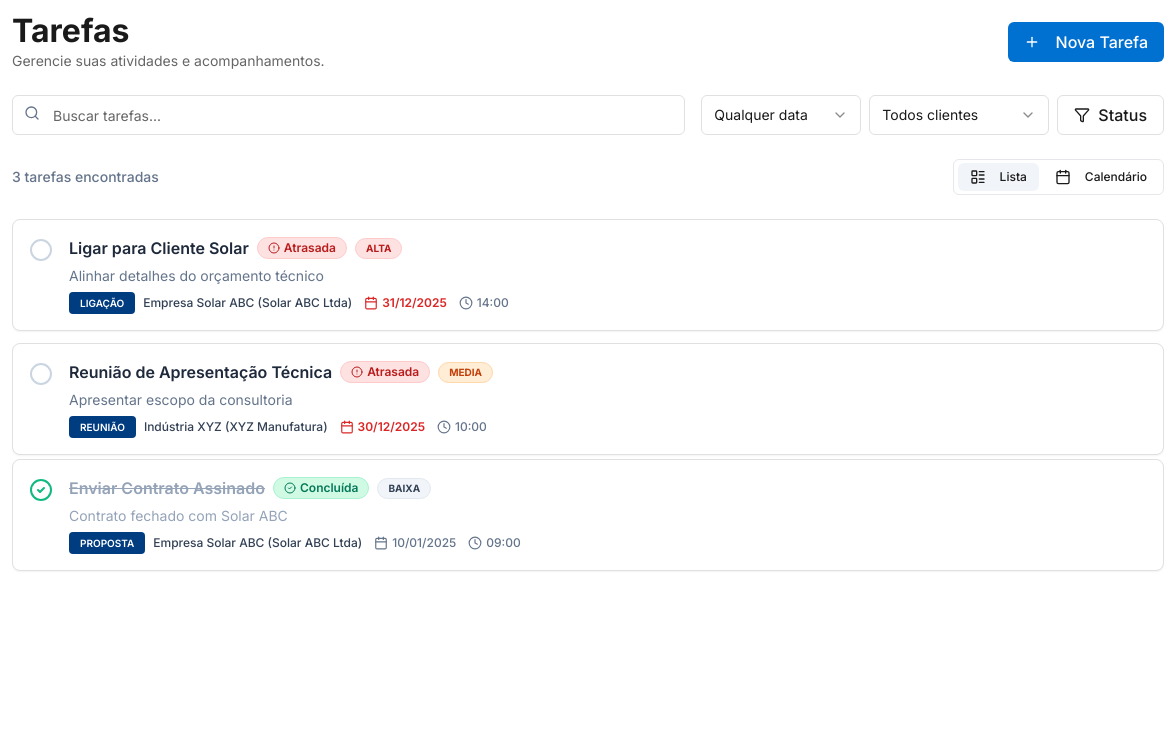
Test case: TasksPage Integration Tests (Fluxo Tarefas) › 2. Deve filtrar tarefas por termo de busca
The width and height of the screenshot is (1176, 732).
Expected: the heading "Ligar para Cliente Solar" is shown, [69,236,249,260]
Type "Reunião" into the field with placeholder "Buscar tarefas...". click: (349, 115)
box: [12,95,685,135]
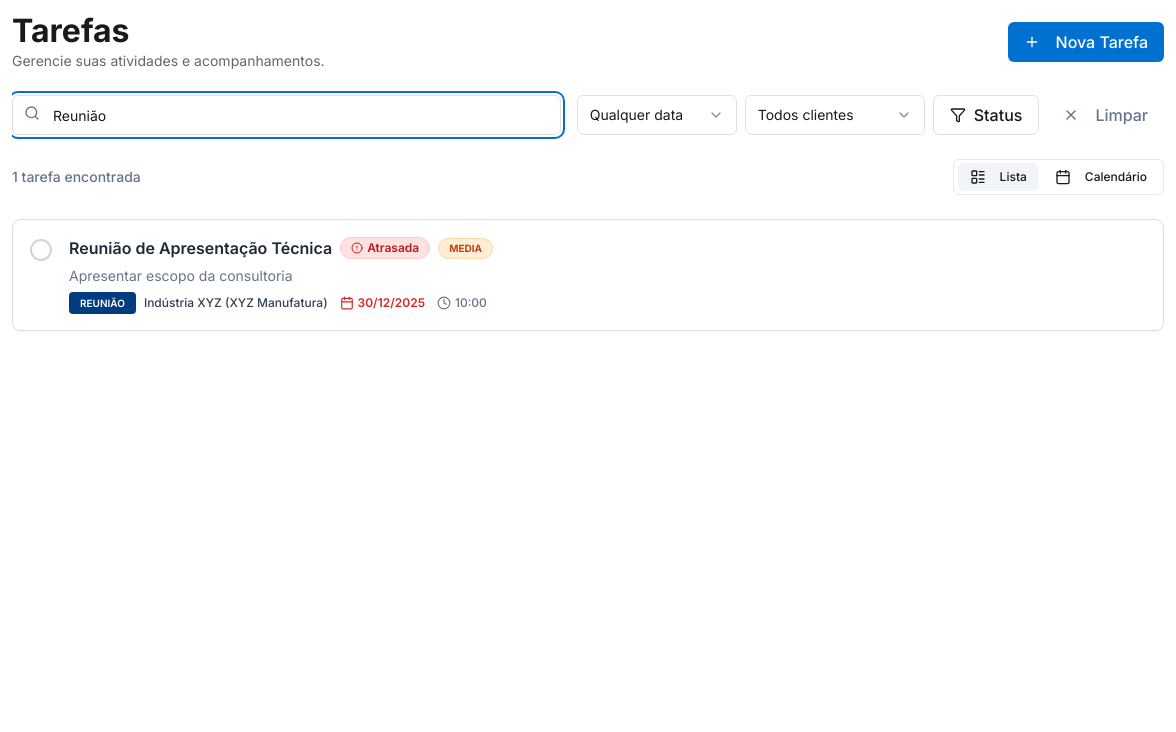
Result: the heading "Ligar para Cliente Solar" is gone
Result: the heading "Enviar Contrato Assinado" is gone
Result: the heading "1 tarefa encontrada" is shown at [12,167,141,187]
Note: Limpar busca
Clear the field with placeholder "Buscar tarefas...". click: (286, 115)
box: [12,95,561,135]
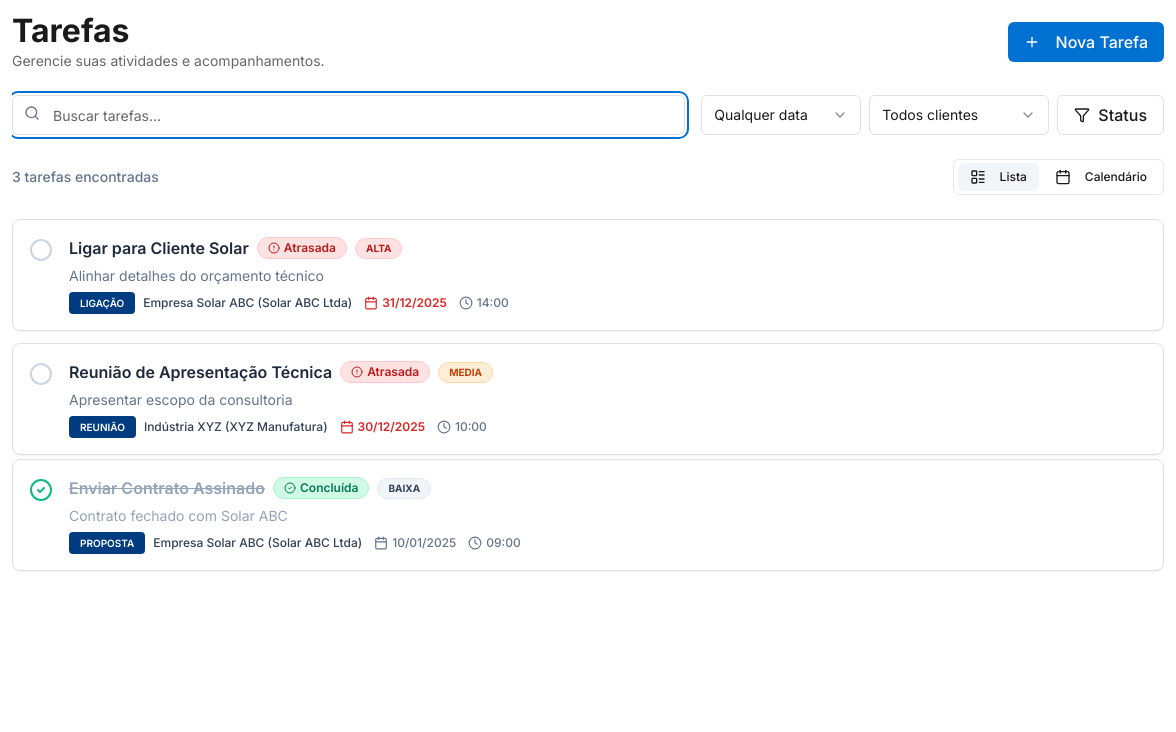
Result: the heading "3 tarefas encontradas" is shown at [12,167,159,187]
